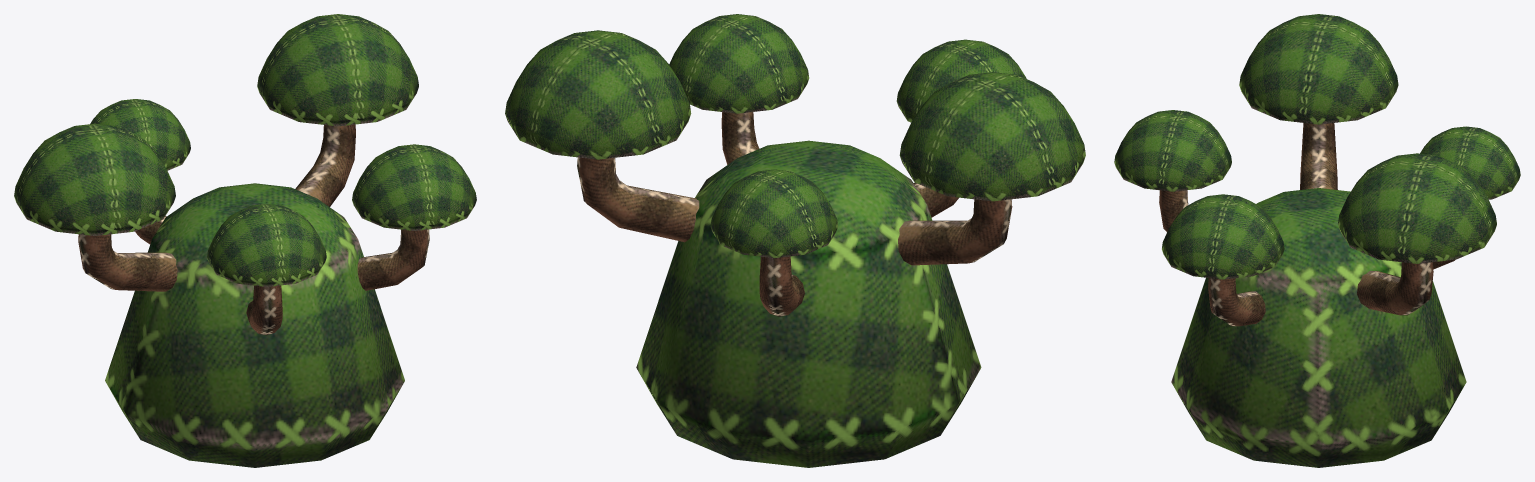
The model's file is lpb_cs_tree5.fbx.
3 renders of one model, left to right at view 1: azimuth 30°, elevation 25°; view 2: azimuth 150°, elevation 25°; view 3: azimuth 270°, elevation 25°, orthographic. The views are drawn at different scales.
Parts seen in each view (by area): view 1: lpb_cs_tree5; view 2: lpb_cs_tree5; view 3: lpb_cs_tree5.
Part boxes in pixels (left/top/right/bottom): lpb_cs_tree5: left=14, top=14, right=476, bottom=467; lpb_cs_tree5: left=505, top=14, right=1085, bottom=467; lpb_cs_tree5: left=1114, top=14, right=1520, bottom=467.
Bounding box in the file's own units: 229 × 168 × 189.
